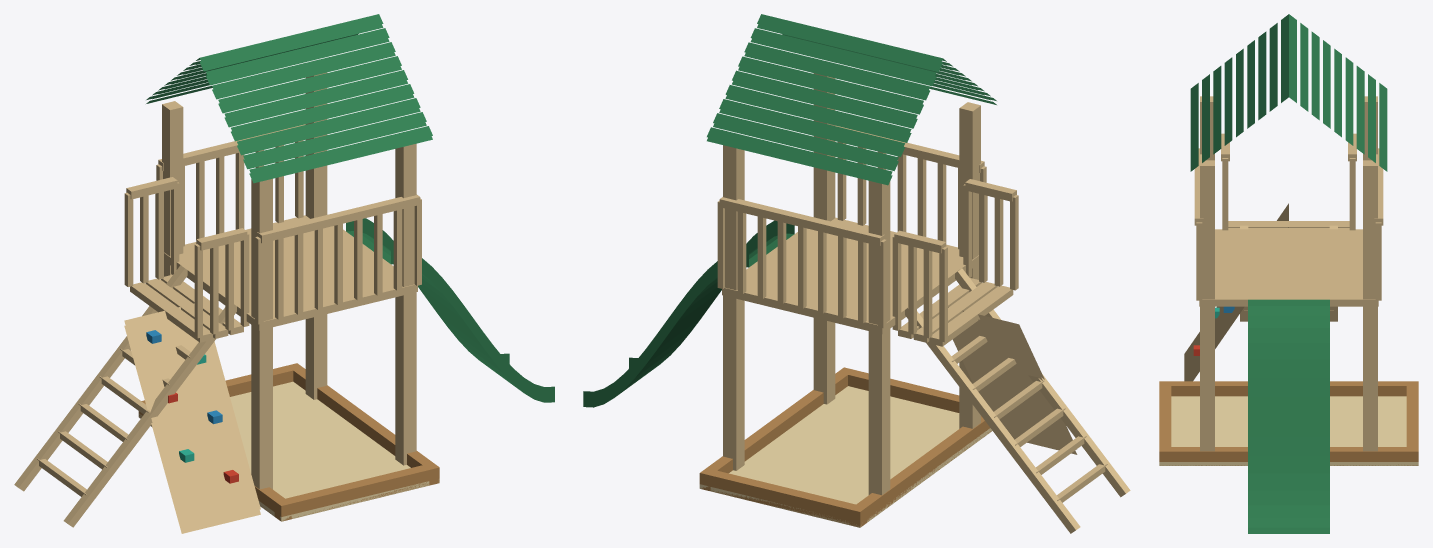
3 renders of one model, left to right at view 1: azimuth 30°, elevation 25°; view 2: azimuth 150°, elevation 25°; view 3: azimuth 270°, elevation 25°, orthographic. The views are drawn at different scales.
Visible parts, largest first — view 1: SW-T206; view 2: SW-T206; view 3: SW-T206.
Boxes of the visible parts, <box> form: SW-T206: <box>14,14,554,533</box>; SW-T206: <box>583,14,1130,533</box>; SW-T206: <box>1159,14,1418,533</box>.
Size of the model in its own units: 3.92 by 3.17 by 1.97.
